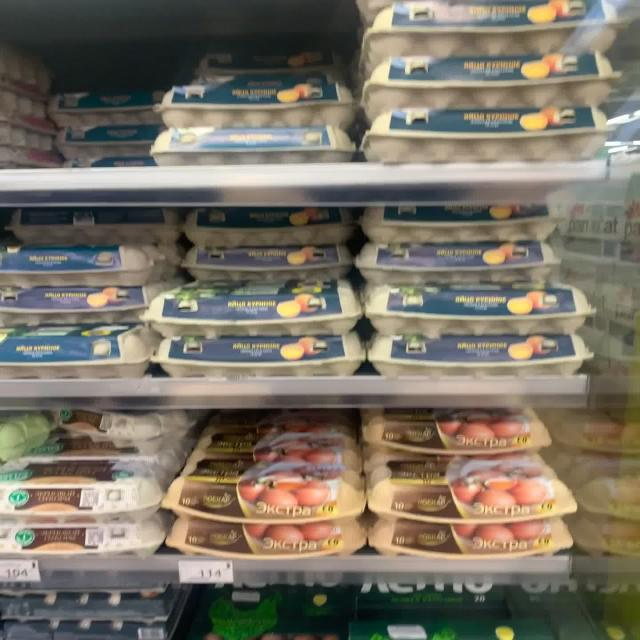egg box: (359, 97, 612, 164), (362, 2, 626, 62), (374, 453, 572, 526), (358, 273, 600, 329), (347, 60, 623, 108), (377, 325, 598, 380), (342, 232, 576, 283), (153, 225, 358, 282), (356, 396, 553, 455), (363, 191, 573, 246), (161, 75, 359, 129), (139, 278, 361, 326), (162, 509, 363, 560), (370, 508, 566, 559), (166, 469, 358, 518), (164, 326, 358, 374), (193, 385, 359, 441), (187, 193, 360, 246), (2, 468, 166, 521), (0, 325, 155, 378), (192, 425, 362, 473), (196, 572, 351, 624), (144, 127, 361, 161), (352, 570, 518, 614), (6, 203, 174, 246), (4, 516, 171, 559), (192, 32, 352, 76), (54, 392, 182, 443), (0, 277, 146, 321), (8, 252, 166, 287), (46, 80, 170, 119), (25, 440, 182, 468), (43, 121, 169, 148)
